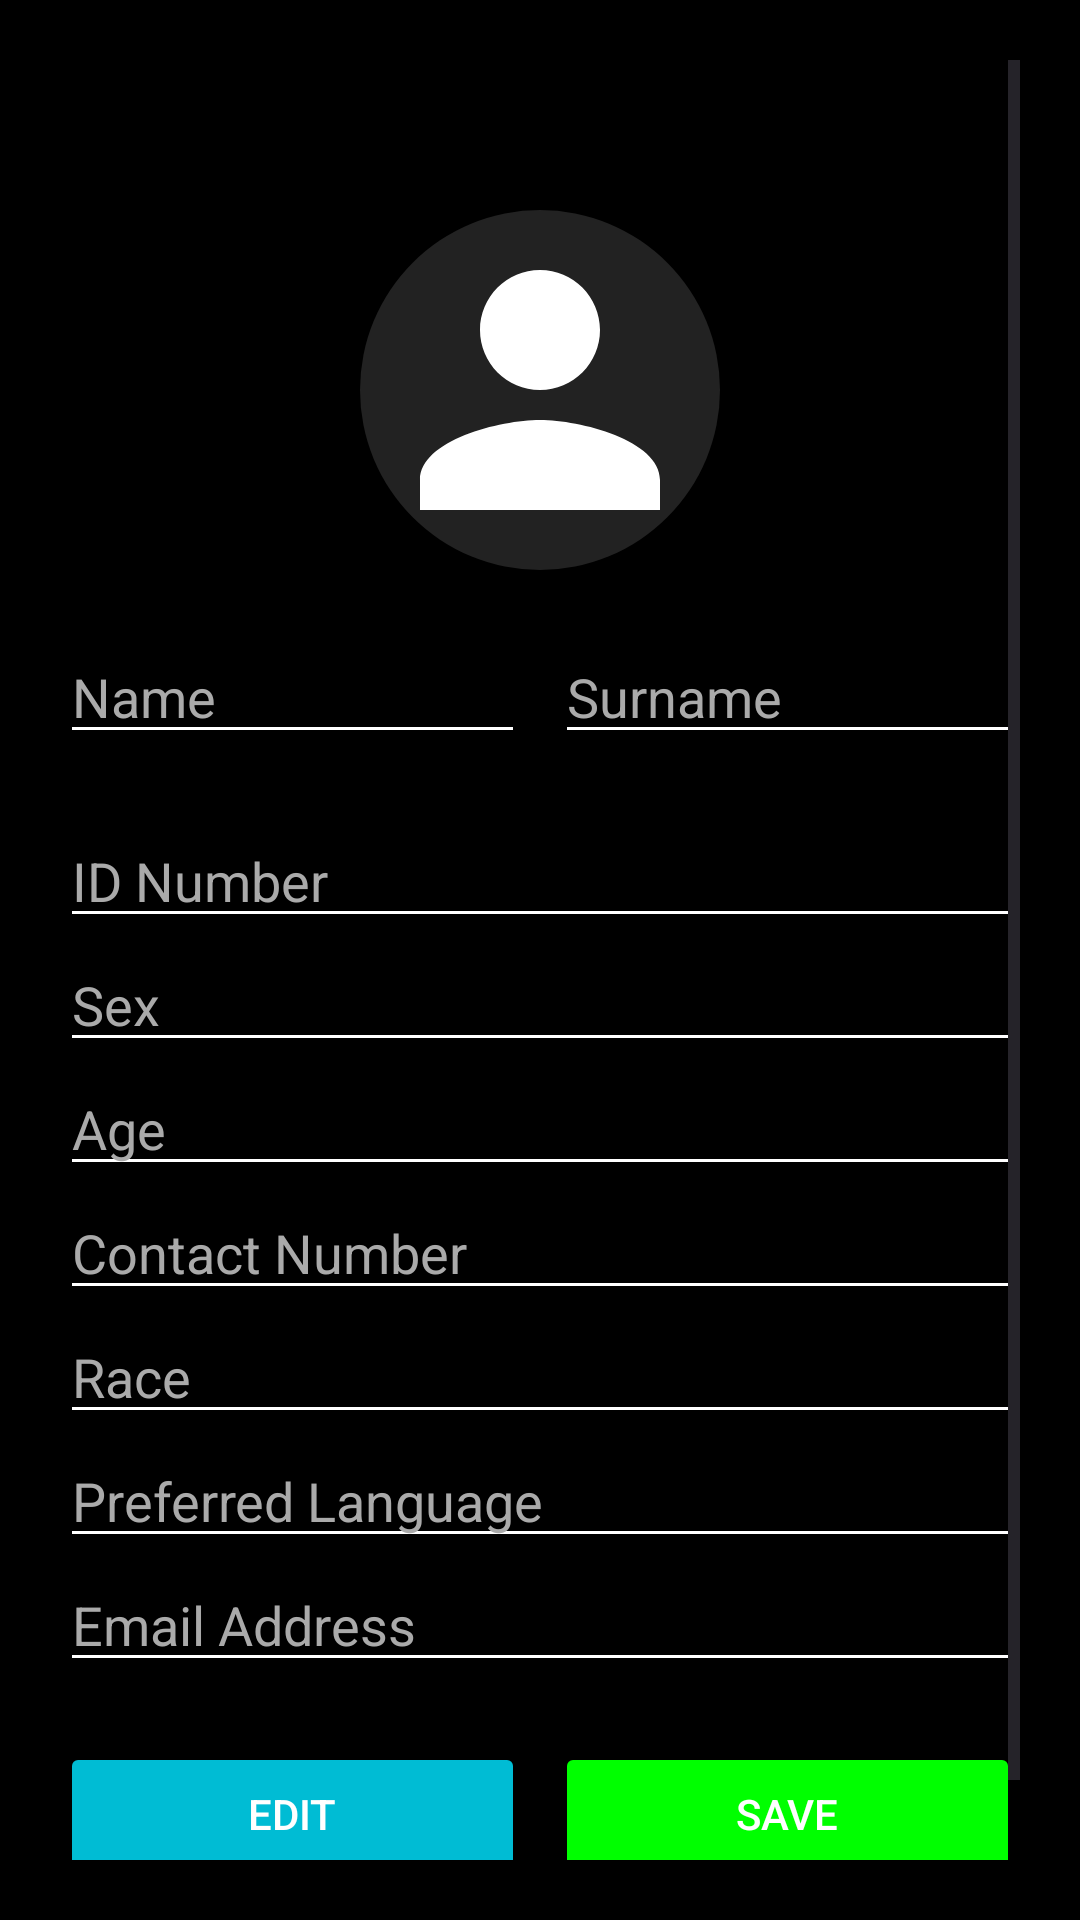

Icons on this 1080px×1920px Android screen, each with its box as box=[x1, y1, x2, y2]:
Profile Picture: box=[360, 210, 720, 570]
